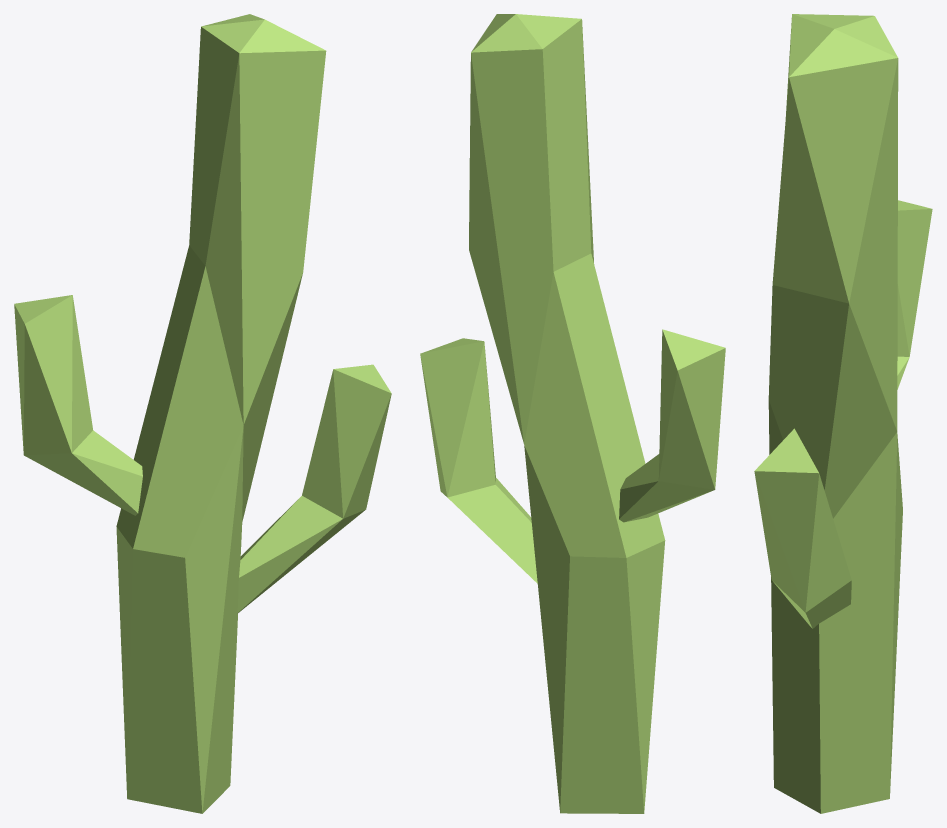
The model's file is Cactus_b_m_06.fbx.
The picture shows the model from 3 angles, left to right: view 1: azimuth 30°, elevation 25°; view 2: azimuth 150°, elevation 25°; view 3: azimuth 270°, elevation 25°; orthographic projection. The views are drawn at different scales.
Parts seen in each view (by area): view 1: Cactus_b_m_06; view 2: Cactus_b_m_06; view 3: Cactus_b_m_06.
Boxes of the visible parts, x1,y1,x2,y2 form: Cactus_b_m_06: (14,14,391,813); Cactus_b_m_06: (420,14,725,813); Cactus_b_m_06: (754,14,932,813).
Bounding box in the file's own units: 101 × 222 × 44.53.
